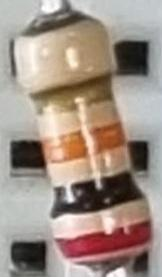Black: (50, 169, 146, 220)
Orange: (40, 119, 128, 167)
Red: (55, 216, 151, 260)
Side-Gold: (24, 65, 115, 115)
